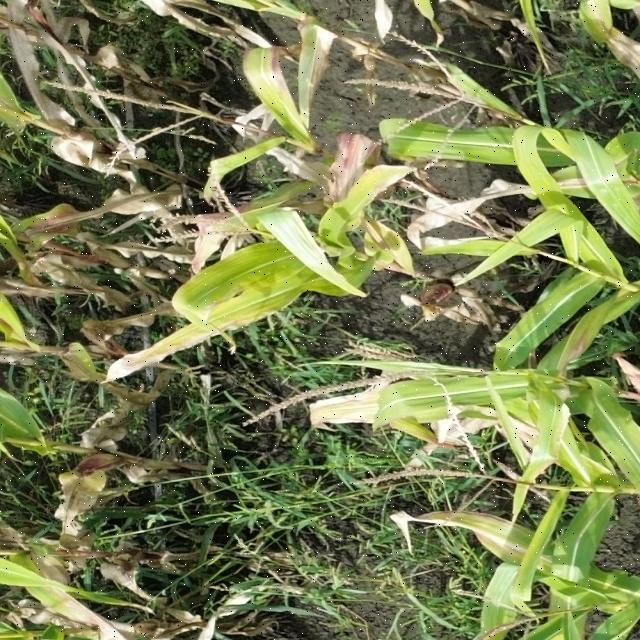northern-leaf-blight: (120, 278, 291, 389), (226, 27, 357, 127), (407, 500, 543, 570)
